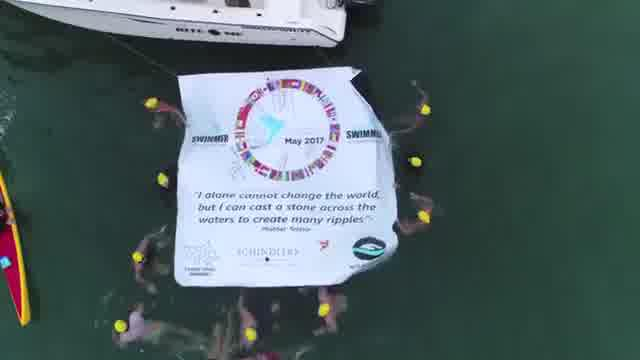human: (102, 300, 186, 355), (376, 81, 434, 140), (124, 230, 176, 289), (138, 95, 194, 136), (394, 192, 441, 240), (310, 282, 348, 338)
